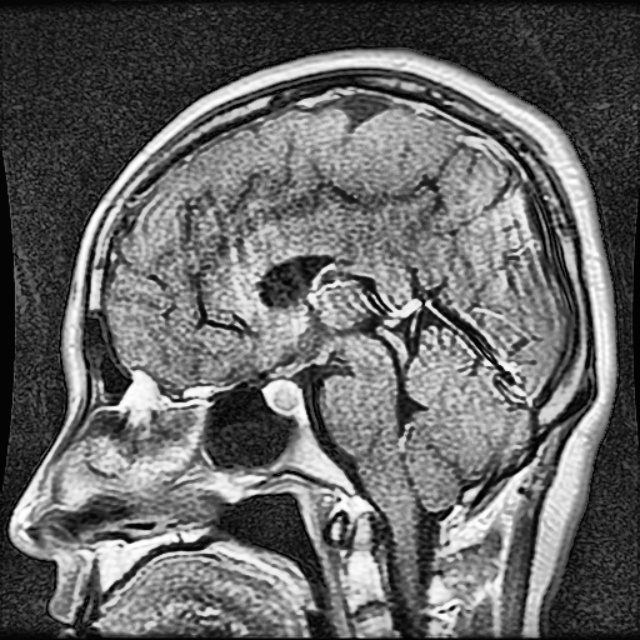Pituitary: (264, 382, 304, 419)
